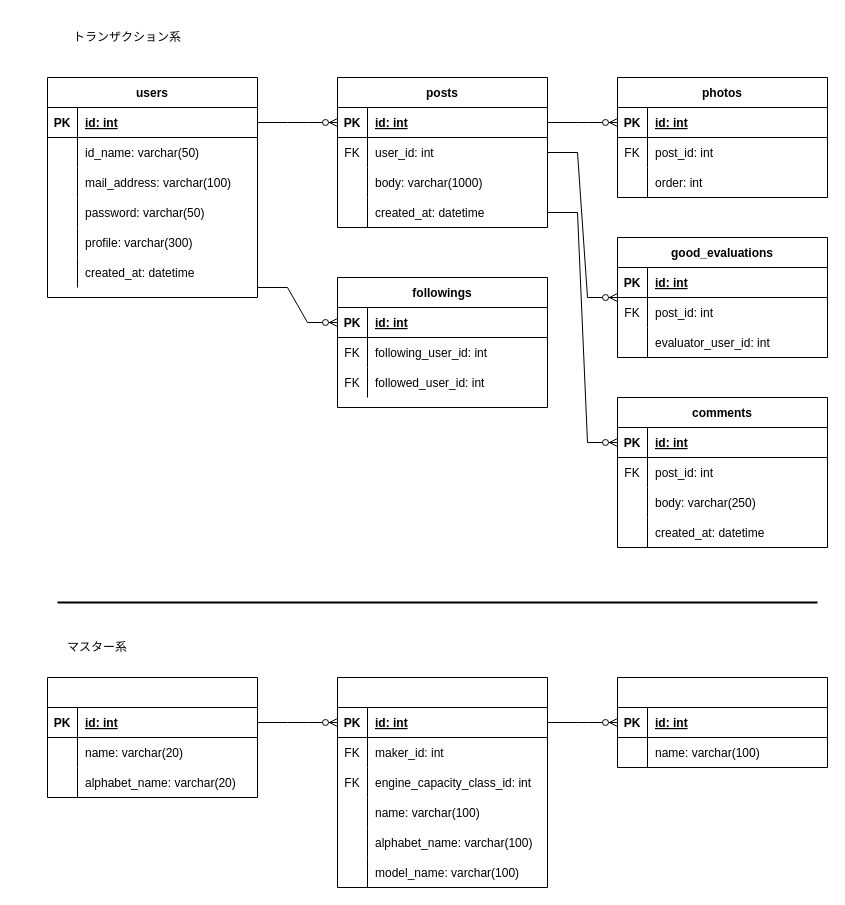
Some shapes in this 845 by 905 pixel diagram are drawn without their labels. The box of each missing label's shape, as (x1, y1, x2, y2) in pixels:
bike_makers: (46, 676, 258, 798)
bikes: (336, 676, 548, 888)
engine_capacity_classes: (616, 676, 828, 768)
